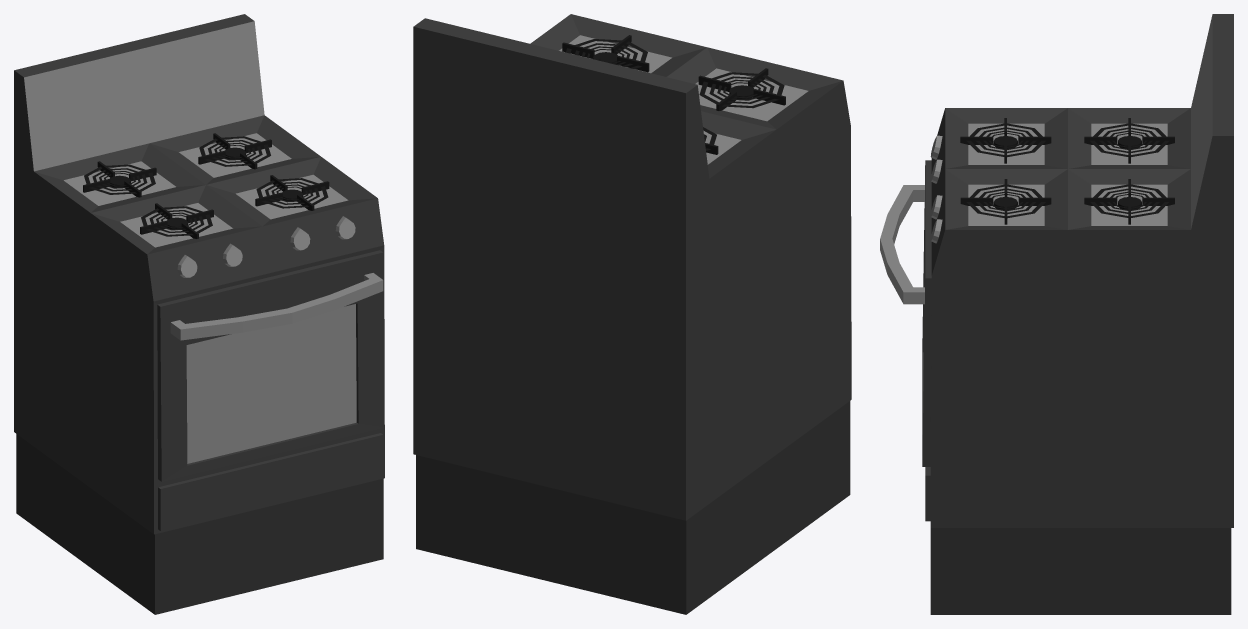
The model's file is Stove.glb.
3 renders of one model, left to right at view 1: azimuth 30°, elevation 25°; view 2: azimuth 150°, elevation 25°; view 3: azimuth 270°, elevation 25°, orthographic. The views are drawn at different scales.
Parts seen in each view (by area): view 1: Cube; view 2: Cube; view 3: Cube.
Part boxes in pixels (<box>): Cube: <box>14,14,384,614</box>; Cube: <box>413,14,851,614</box>; Cube: <box>880,14,1233,614</box>.
Bounding box in the file's own units: 5.83 × 10.69 × 7.14.
2 materials, 1 textured.
